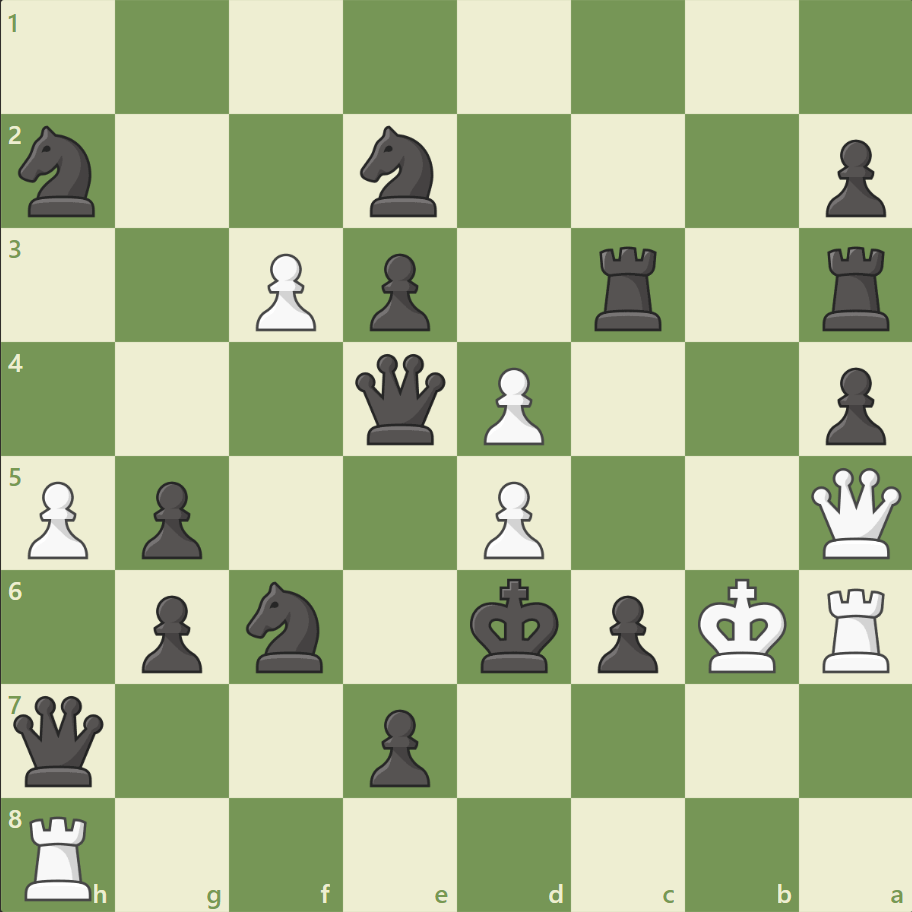K: (692, 571, 792, 679)
P: (474, 473, 549, 564), (20, 473, 95, 564), (474, 359, 549, 450), (247, 246, 322, 337)
Q: (805, 463, 904, 562)
R: (19, 806, 102, 904), (814, 579, 897, 676)
k: (465, 571, 565, 679)
n: (351, 121, 449, 223), (238, 575, 335, 677), (11, 121, 108, 223)
p: (133, 586, 208, 677), (133, 473, 208, 564), (361, 700, 435, 791), (588, 586, 662, 677), (815, 359, 889, 450), (361, 246, 435, 337), (815, 132, 889, 223)
q: (351, 349, 450, 449), (10, 690, 109, 789)
r: (814, 239, 897, 336), (587, 239, 670, 336)
